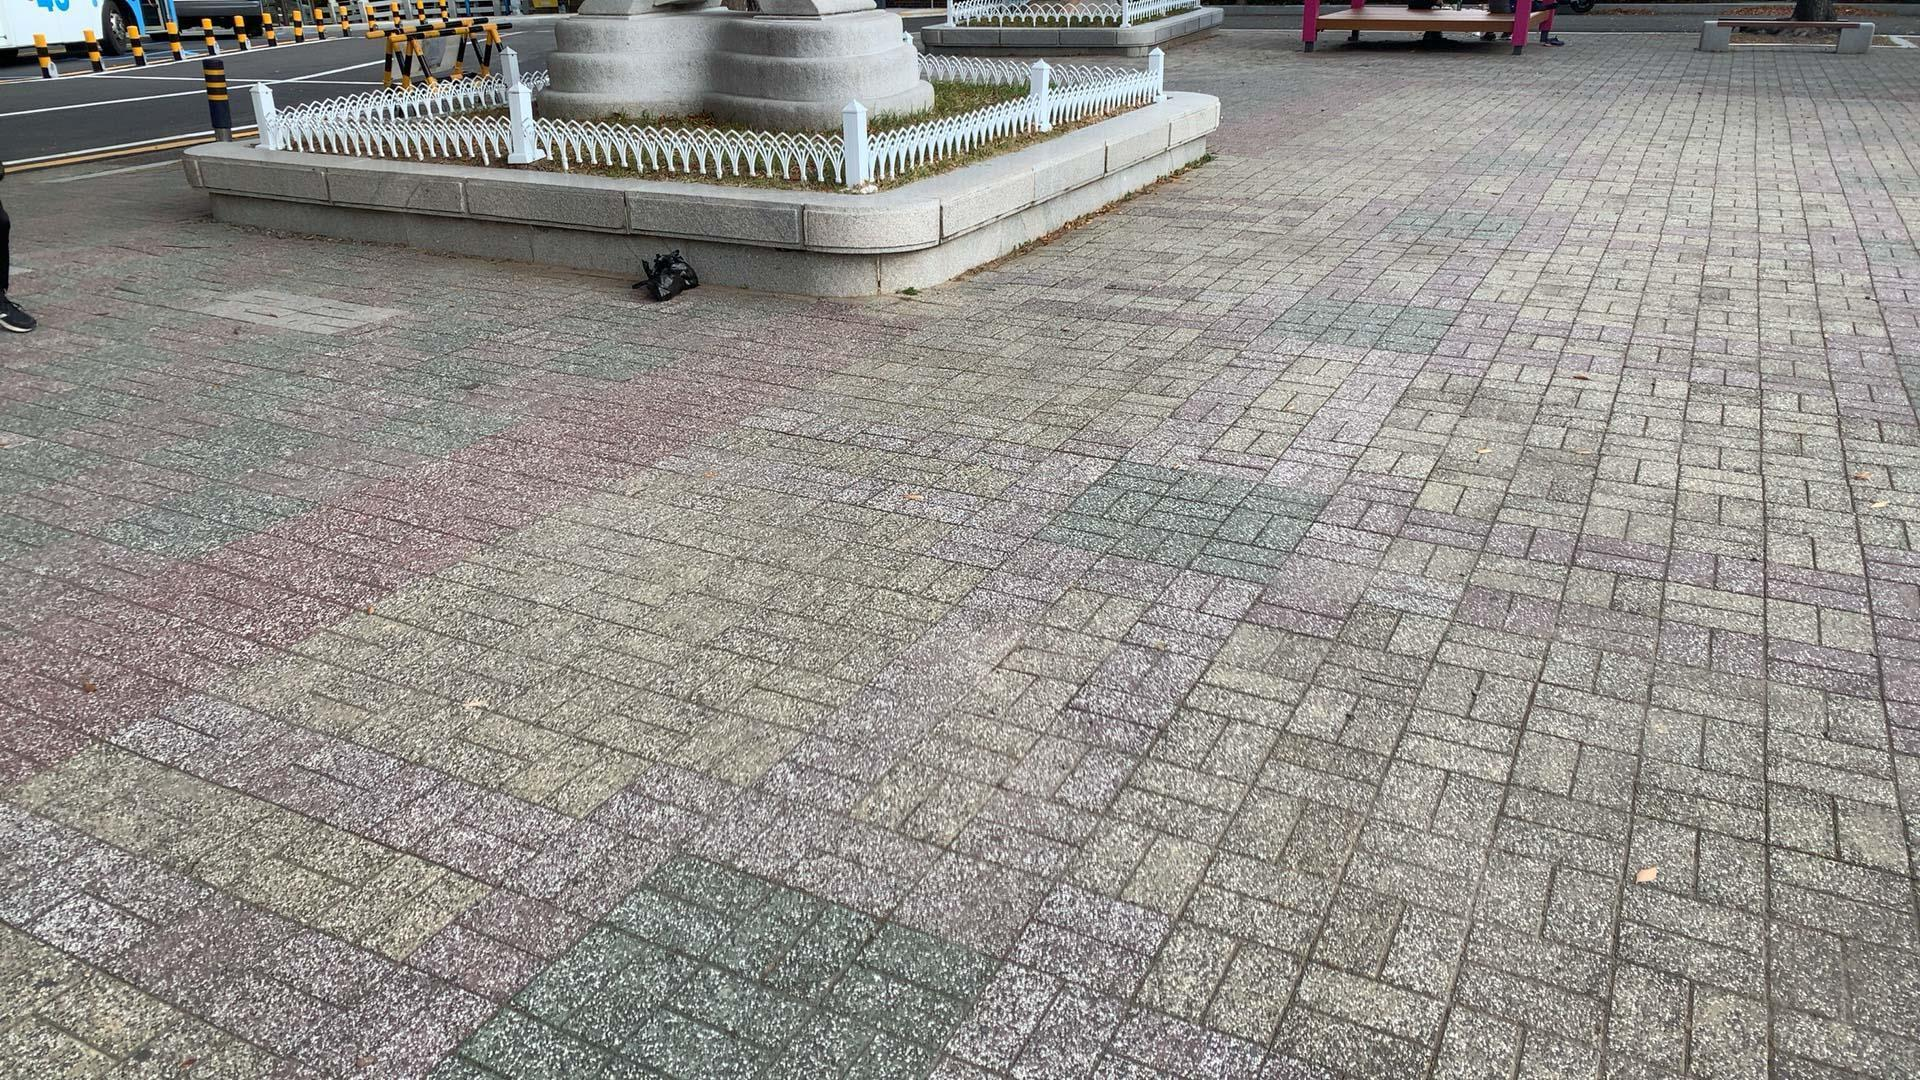black_bag: (626, 248, 703, 306)
